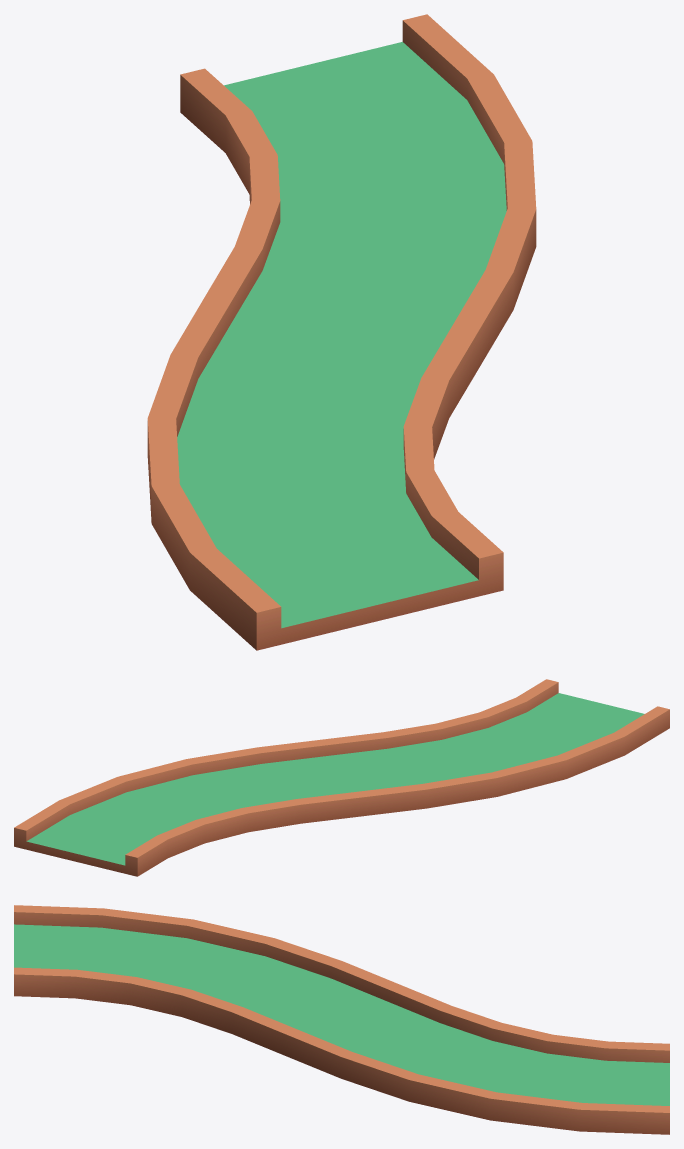
Rendered from spline-default-curve.glb.
3 views of the same model, one above another, from view 1: azimuth 30°, elevation 25°; view 2: azimuth 150°, elevation 25°; view 3: azimuth 270°, elevation 25° (orthographic). The views are drawn at different scales.
Visible parts, largest first — view 1: spline-default-curve; view 2: spline-default-curve; view 3: spline-default-curve.
Boxes of the visible parts, x1,y1,x2,y2 form: spline-default-curve: [147, 14, 536, 650]; spline-default-curve: [14, 679, 669, 876]; spline-default-curve: [14, 905, 669, 1134].
Bounding box in the file's own units: 3 × 0.1465 × 4.
1 material, 1 textured.
